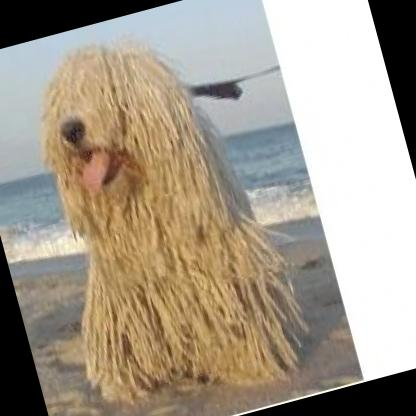komondor: (0, 3, 324, 416)
